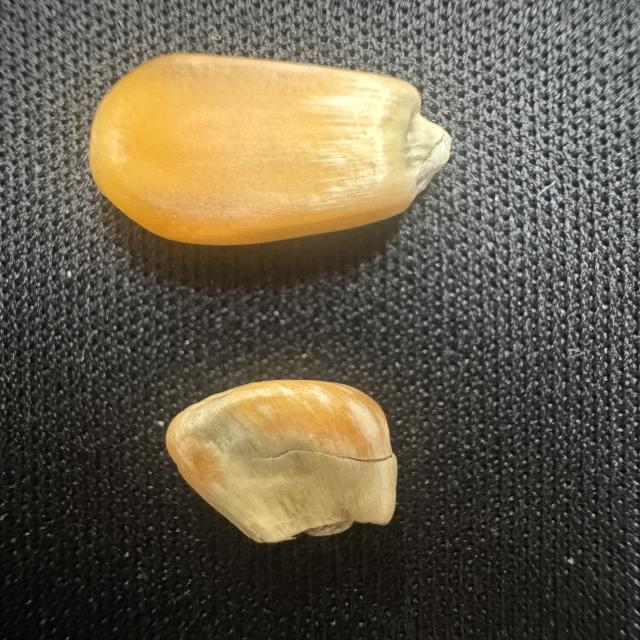Bad-Seed: (158, 376, 404, 545)
Good-Seed: (84, 49, 457, 248)
